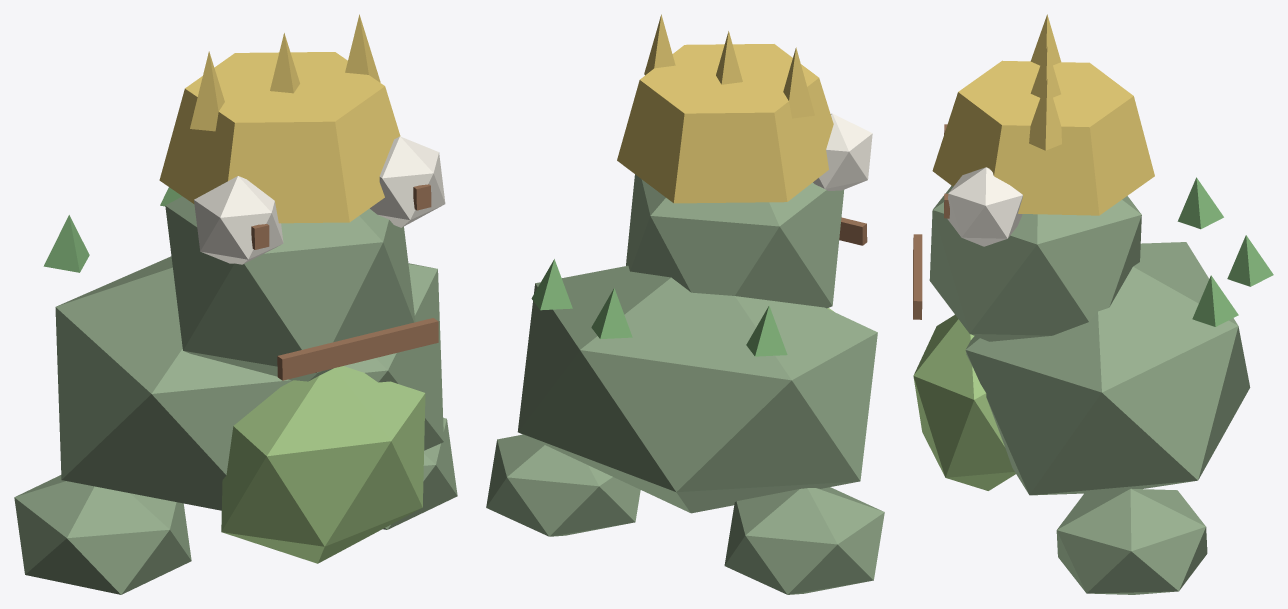
The model's file is npcpose_toad_king_attack_10.glb.
3 renders of one model, left to right at view 1: azimuth 30°, elevation 25°; view 2: azimuth 150°, elevation 25°; view 3: azimuth 270°, elevation 25°, orthographic. The views are drawn at different scales.
Parts seen in each view (by area): view 1: npcpose; view 2: npcpose; view 3: npcpose.
Boxes of the visible parts, box(x1,y1,x2,y2) form: npcpose: box(14, 14, 457, 594); npcpose: box(486, 14, 884, 594); npcpose: box(913, 14, 1273, 594).
Bounding box in the file's own units: 1.75 × 2.22 × 1.48.
